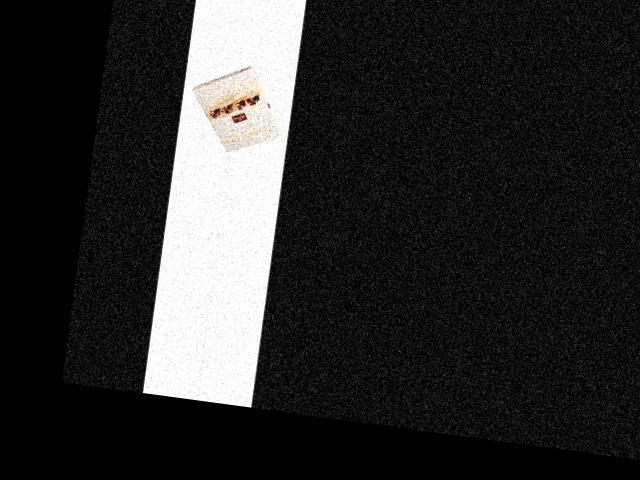chocolate: (177, 55, 289, 157)
